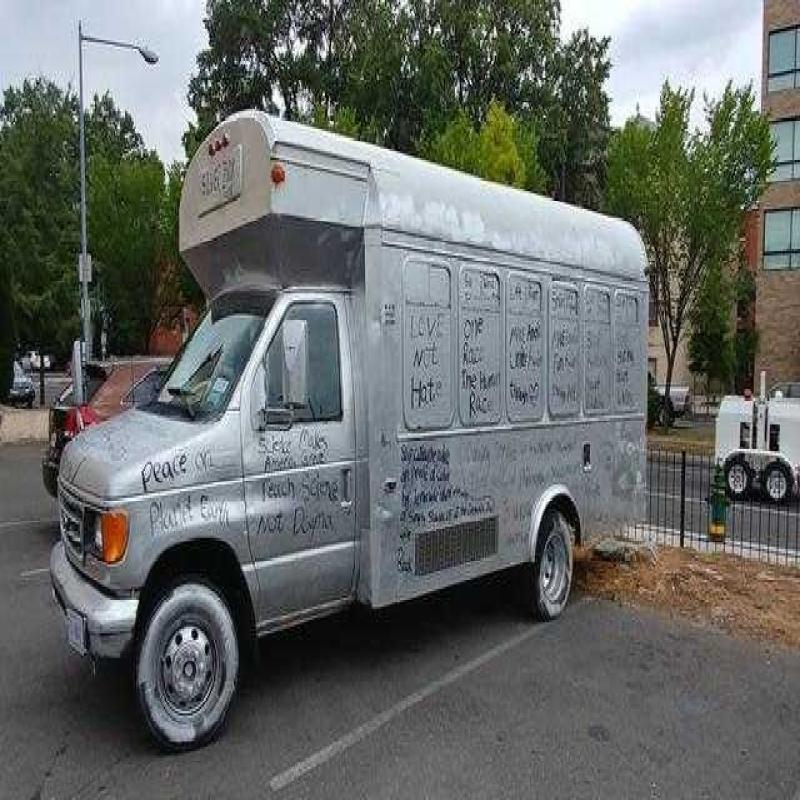bus: (57, 65, 688, 722)
